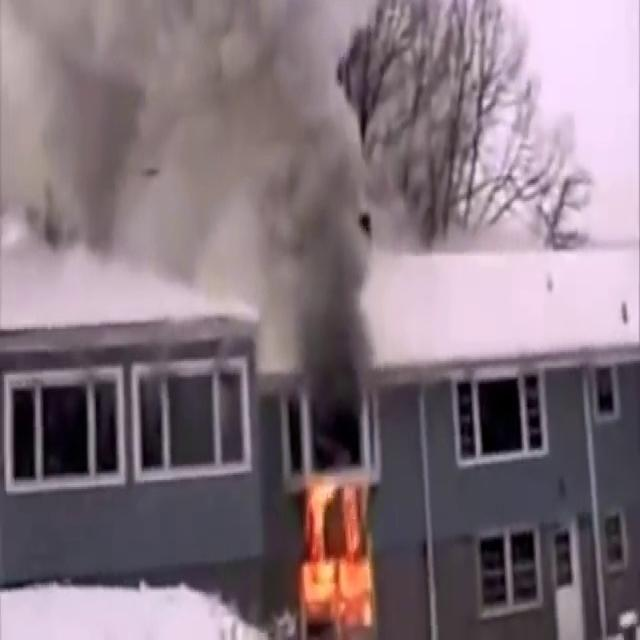Fire: (291, 447, 389, 636)
Smoke: (0, 0, 389, 318)
